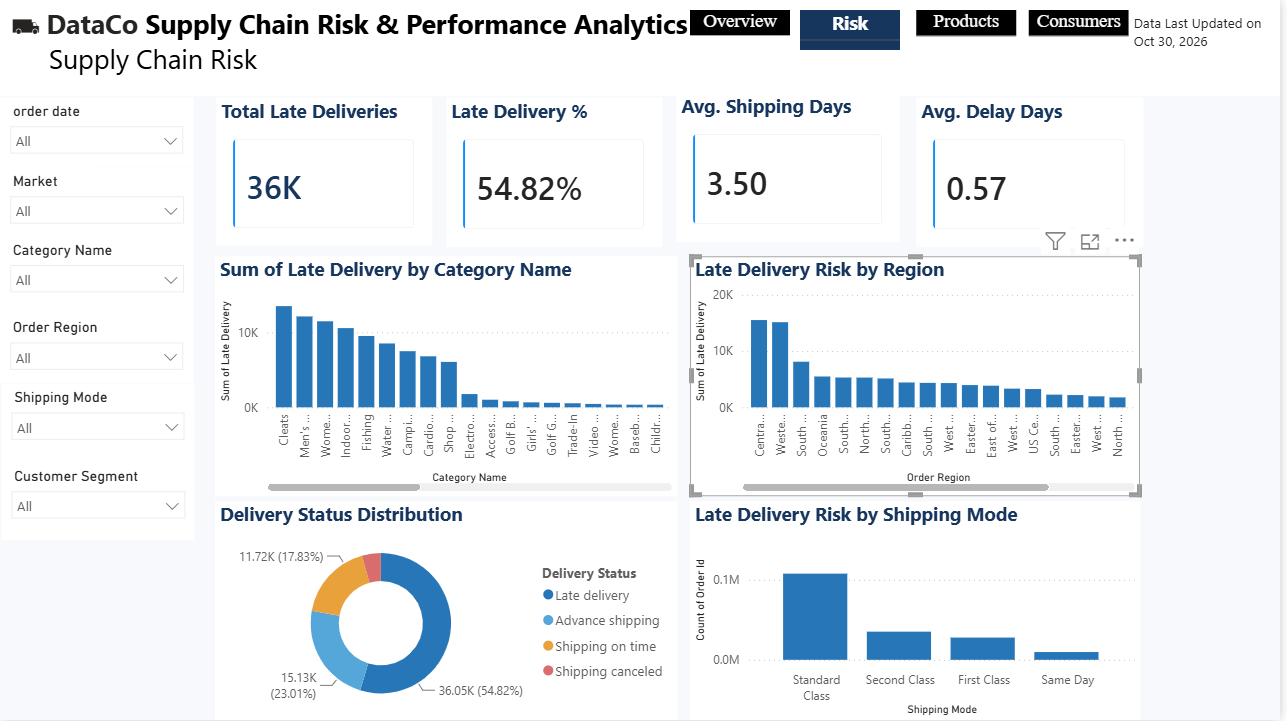

The page's visual inventory and layout, read from the dashboard file:
{"tool":"powerbi","page":{"name":"Supply Chain Risk","canvas":[1280,720],"ordinal":2},"visuals":[{"type":"textbox","box":[0,0,1280,96.2],"z":0},{"type":"actionButton","title":"Consumers","box":[1029.1,9.7,100,40],"z":1000},{"type":"actionButton","title":"Risk","box":[799.9,9.7,100,40],"z":2000},{"type":"actionButton","title":"Overview","box":[690.1,9.7,100,40],"z":3000},{"type":"actionButton","title":"Products","box":[915.7,9.7,100,40],"z":4000},{"type":"textbox","box":[1129.2,8.4,139.9,62.7],"z":5000},{"type":"slicer","title":"Order Date","fields":{"Values":["final_supply_chain_dashboard.order date"]},"box":[0,97.7,193.2,69.7],"z":6000},{"type":"slicer","fields":{"Values":["final_supply_chain_dashboard.Market"]},"box":[0,167.7,193.8,68.8],"z":7000},{"type":"slicer","fields":{"Values":["final_supply_chain_dashboard.Category Name"]},"box":[0,236.5,193.8,77.5],"z":8000},{"type":"slicer","fields":{"Values":["final_supply_chain_dashboard.Order Region"]},"box":[0,313.7,193.2,69.7],"z":9000},{"type":"slicer","fields":{"Values":["final_supply_chain_dashboard.Shipping Mode"]},"box":[1.2,383.6,193.2,78.3],"z":10000},{"type":"slicer","fields":{"Values":["final_supply_chain_dashboard.Customer Segment"]},"box":[1.2,462.1,193.8,77.5],"z":11000},{"type":"cardVisual","title":"Late Delivery %","fields":{"Data":["final_supply_chain_dashboard.Late Delivery %"]},"box":[446.4,97.7,216,149.6],"z":12000},{"type":"cardVisual","title":"Avg. Shipping Days","fields":{"Data":["final_supply_chain_dashboard.Average Shipping Days"]},"box":[676.8,92.9,223.2,149.6],"z":13000},{"type":"cardVisual","title":"Avg. Delay Days","fields":{"Data":["final_supply_chain_dashboard.Average Delay Days"]},"box":[915.7,97.7,226.8,149.6],"z":14000},{"type":"clusteredColumnChart","fields":{"Category":["final_supply_chain_dashboard.Category Name"],"Y":["Sum(final_supply_chain_dashboard.Late Delivery)"]},"box":[214.7,255.8,462.1,240.1],"z":15000},{"type":"clusteredColumnChart","title":"Late Delivery Risk by Region","fields":{"Category":["final_supply_chain_dashboard.Order Region"],"Y":["Sum(final_supply_chain_dashboard.Late Delivery)"]},"box":[690.1,255.8,450,240.1],"z":16000},{"type":"donutChart","title":"Delivery Status Distribution","fields":{"Category":["final_supply_chain_dashboard.Delivery Status"],"Y":["Count(final_supply_chain_dashboard.Order Id)"]},"box":[214.7,500.7,462.1,219.6],"z":17000},{"type":"clusteredColumnChart","title":"Late Delivery Risk by Shipping Mode","fields":{"Category":["final_supply_chain_dashboard.Shipping Mode"],"Y":["CountNonNull(final_supply_chain_dashboard.Order Id)"]},"box":[690.1,500.7,450,219.6],"z":18000},{"type":"cardVisual","title":"Total Late Deliveries","fields":{"Data":["final_supply_chain_dashboard.Total Late Deliveries"]},"box":[216,97.7,216,148.4],"z":19000}]}

Visuals, with their boxes in screenshot pixels (x1, y1, x2, y2), scaled from the page's 1280x720 canvas onto the 1287x721 screenshot:
textbox: 0/0/1286/96
"Consumers" actionButton: 1035/10/1135/50
"Risk" actionButton: 804/10/905/50
"Overview" actionButton: 694/10/794/50
"Products" actionButton: 921/10/1021/50
textbox: 1135/8/1276/71
"Order Date" slicer: 0/98/194/168
slicer - final_supply_chain_dashboard.Market: 0/168/195/237
slicer - final_supply_chain_dashboard.Category Name: 0/237/195/314
slicer - final_supply_chain_dashboard.Order Region: 0/314/194/384
slicer - final_supply_chain_dashboard.Shipping Mode: 1/384/195/463
slicer - final_supply_chain_dashboard.Customer Segment: 1/463/196/540
"Late Delivery %" cardVisual: 449/98/666/248
"Avg. Shipping Days" cardVisual: 681/93/905/243
"Avg. Delay Days" cardVisual: 921/98/1149/248
clusteredColumnChart - final_supply_chain_dashboard.Category Name x Sum(final_supply_chain_dashboard.Late Delivery): 216/256/681/497
"Late Delivery Risk by Region" clusteredColumnChart: 694/256/1146/497
"Delivery Status Distribution" donutChart: 216/501/681/720
"Late Delivery Risk by Shipping Mode" clusteredColumnChart: 694/501/1146/720
"Total Late Deliveries" cardVisual: 217/98/434/246
